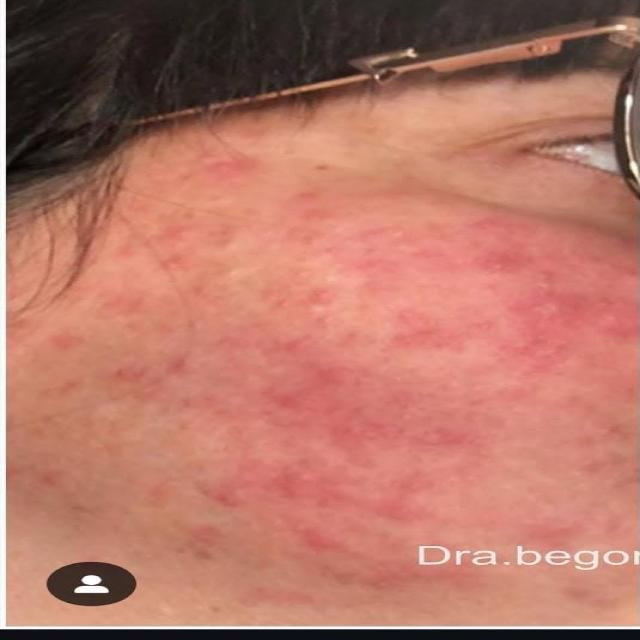Rosacea: (164, 192, 596, 534)
